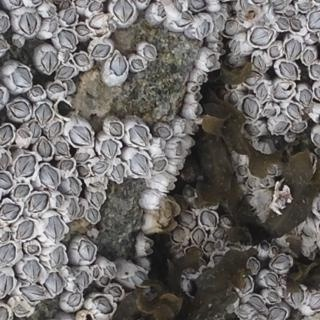Barnacle: (44, 216, 65, 242), (157, 195, 175, 225), (249, 26, 276, 46), (15, 154, 36, 179), (40, 164, 61, 187), (128, 152, 149, 175), (20, 12, 39, 37), (70, 125, 92, 145), (8, 100, 30, 120), (114, 0, 134, 22), (20, 259, 40, 280), (129, 125, 149, 146), (12, 66, 32, 87), (45, 273, 64, 295), (0, 202, 22, 221), (272, 82, 294, 101), (101, 137, 119, 160), (41, 50, 59, 73), (0, 242, 16, 267), (93, 295, 114, 314), (79, 239, 97, 261), (284, 38, 302, 60), (29, 193, 49, 212), (58, 29, 77, 49), (16, 219, 34, 240), (35, 103, 53, 124), (50, 246, 65, 271), (111, 53, 127, 76), (172, 11, 194, 27), (22, 286, 45, 301), (244, 71, 263, 89), (279, 63, 298, 81), (0, 273, 14, 297), (247, 294, 267, 310), (91, 43, 112, 58), (37, 136, 52, 156), (56, 65, 76, 80), (0, 124, 14, 145), (77, 270, 90, 291), (201, 209, 217, 226), (272, 255, 291, 269), (224, 20, 239, 37), (291, 287, 305, 305), (192, 227, 206, 245), (72, 52, 90, 66), (69, 177, 82, 196), (262, 272, 278, 287), (112, 162, 124, 182), (13, 184, 30, 198), (55, 140, 69, 157), (92, 191, 105, 209), (308, 10, 319, 31), (90, 15, 106, 29), (299, 88, 312, 105), (269, 307, 287, 319), (240, 275, 252, 293), (49, 120, 61, 138), (49, 82, 67, 94), (256, 82, 268, 100), (67, 293, 82, 307), (172, 226, 185, 242), (28, 122, 41, 138), (64, 8, 77, 24), (0, 172, 12, 189), (91, 161, 108, 173), (68, 198, 78, 218), (199, 19, 210, 37), (152, 157, 166, 171), (290, 18, 304, 32), (274, 121, 289, 134), (230, 38, 242, 54), (132, 271, 146, 284), (181, 212, 194, 226), (158, 124, 172, 137), (110, 122, 123, 136), (253, 54, 266, 68), (77, 23, 91, 36), (267, 291, 282, 303), (74, 152, 90, 163), (309, 292, 319, 309), (190, 0, 207, 10), (154, 3, 167, 16), (248, 258, 260, 272), (76, 165, 90, 177), (61, 159, 75, 171), (303, 50, 315, 64), (144, 45, 156, 59), (206, 53, 217, 68), (0, 152, 10, 168), (309, 64, 319, 80), (109, 286, 122, 298), (214, 228, 227, 240), (276, 17, 289, 29), (14, 303, 28, 314), (245, 124, 259, 135), (31, 85, 45, 96), (27, 243, 40, 254), (87, 208, 98, 221), (273, 0, 287, 10), (175, 140, 183, 157), (0, 16, 8, 33), (304, 221, 313, 236), (238, 308, 250, 319), (214, 252, 225, 264), (294, 121, 306, 132), (132, 59, 144, 70), (204, 240, 214, 253), (90, 181, 106, 189), (105, 264, 116, 275), (90, 1, 101, 12), (172, 0, 183, 11), (0, 229, 10, 241), (48, 19, 57, 32), (215, 15, 224, 28), (19, 129, 30, 139), (299, 0, 310, 10), (165, 176, 174, 188), (78, 203, 85, 218), (55, 194, 63, 207), (261, 241, 271, 251), (224, 214, 233, 225), (248, 178, 257, 189), (175, 159, 182, 173), (62, 50, 70, 62), (144, 238, 151, 251), (76, 0, 91, 6), (186, 186, 194, 197), (194, 103, 201, 115), (101, 276, 110, 285), (260, 177, 269, 186), (238, 165, 247, 174), (47, 6, 55, 16), (182, 119, 188, 132), (267, 166, 276, 174)
